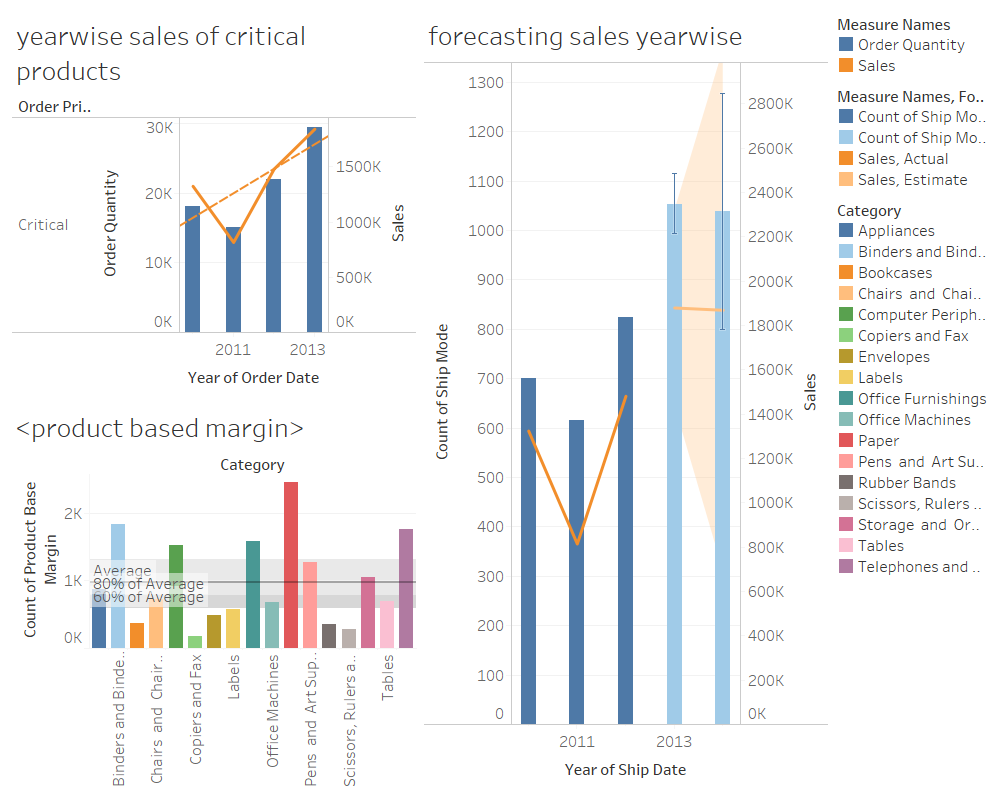

What the dashboard file says about the page in this screenshot:
{"tool":"tableau","page":{"name":"Dashboard 5","canvas":[1000,800],"ordinal":4},"visuals":[{"type":"worksheet","title":"Sheet 8","mark":"Automatic","rows":["Order_Priority","Order_Quantity","Sales"],"cols":["Order_Date"],"box":[8,8,412,392]},{"type":"worksheet","title":"Sheet 4","mark":"Automatic","rows":["Ship_Mode","Sales"],"cols":["Ship_Date"],"box":[420,8,412,784]},{"type":"legend","title":"Sheet 8","param":"[federated.1t2m9ma0ygvi2v10ffru11um78qy].[:Measure Names]","box":[832,8,160,72]},{"type":"legend","title":"Sheet 4","param":"[federated.1t2m9ma0ygvi2v10ffru11um78qy].[:Measure Names]\n[federated.1t2m9ma0ygv","box":[832,80,160,114]},{"type":"legend","title":"Sheet 7","param":"[federated.1t2m9ma0ygvi2v10ffru11um78qy].[none:Category:nk]","box":[832,194,160,387]},{"type":"worksheet","title":"Sheet 7","mark":"Automatic","rows":["Product_Base_Margin"],"cols":["Category"],"box":[8,400,412,392]}]}

Visuals, with their boxes in screenshot pixels (x1, y1, x2, y2), scaled from the page's 1000x800 canvas onto the 1000x800 screenshot:
"Sheet 8" worksheet: 8/8/420/400
"Sheet 4" worksheet: 420/8/832/792
"Sheet 8" legend: 832/8/992/80
"Sheet 4" legend: 832/80/992/194
"Sheet 7" legend: 832/194/992/581
"Sheet 7" worksheet: 8/400/420/792
